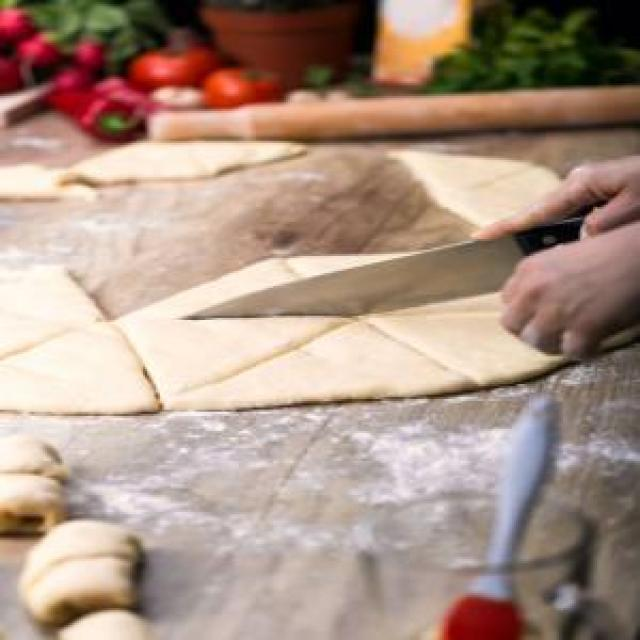knife: (160, 213, 638, 324)
